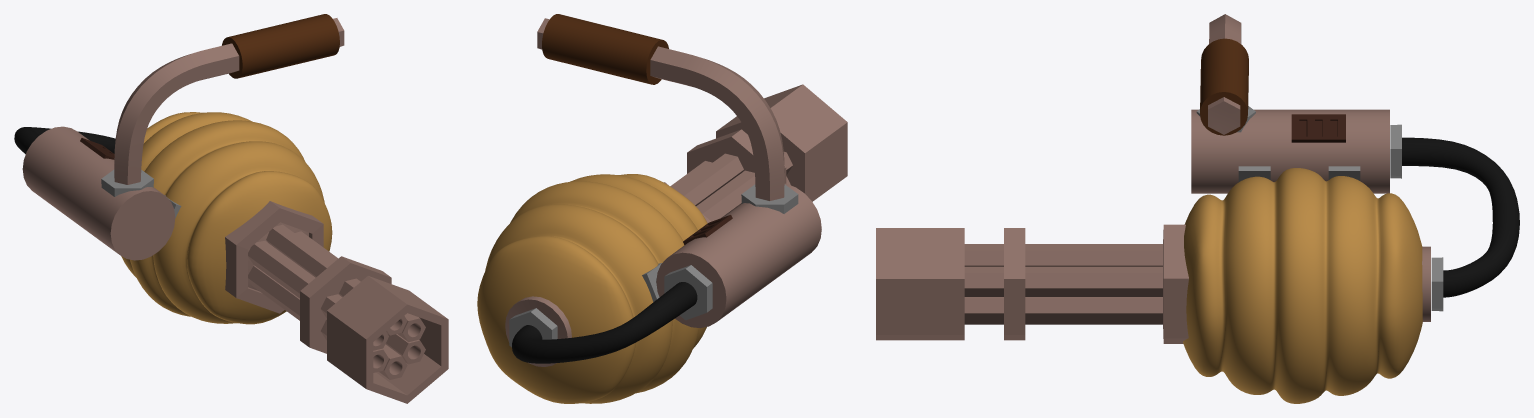
Rendered from beeminigun.fbx.
3 views of the same model, side by side, from view 1: azimuth 30°, elevation 25°; view 2: azimuth 150°, elevation 25°; view 3: azimuth 270°, elevation 25° (orthographic). The views are drawn at different scales.
Parts seen in each view (by area): view 1: Minigun, Barrel; view 2: Minigun, Barrel; view 3: Minigun, Barrel.
Boxes of the visible parts, x1,y1,x2,y2 form: Minigun: (14, 14, 344, 324); Barrel: (248, 224, 448, 403); Minigun: (477, 14, 821, 403); Barrel: (670, 84, 847, 221); Minigun: (1163, 14, 1519, 403); Barrel: (876, 228, 1162, 340).
Bounding box in the file's own units: 223 × 261 × 446.
